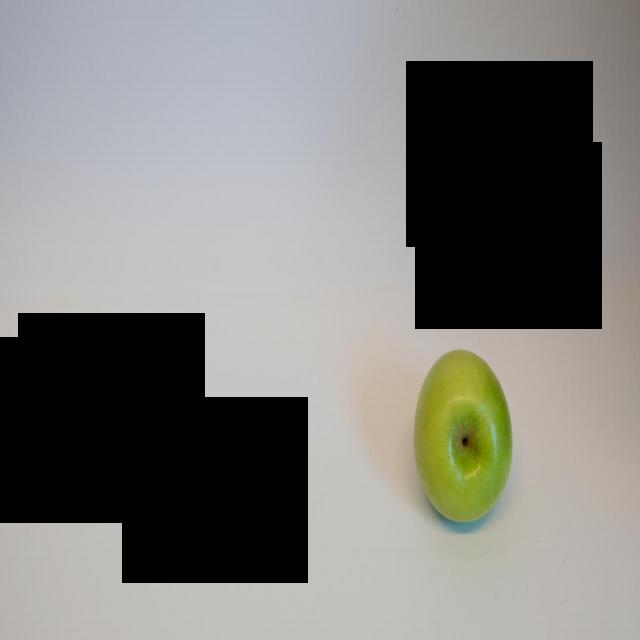apple: (411, 345, 515, 532)
